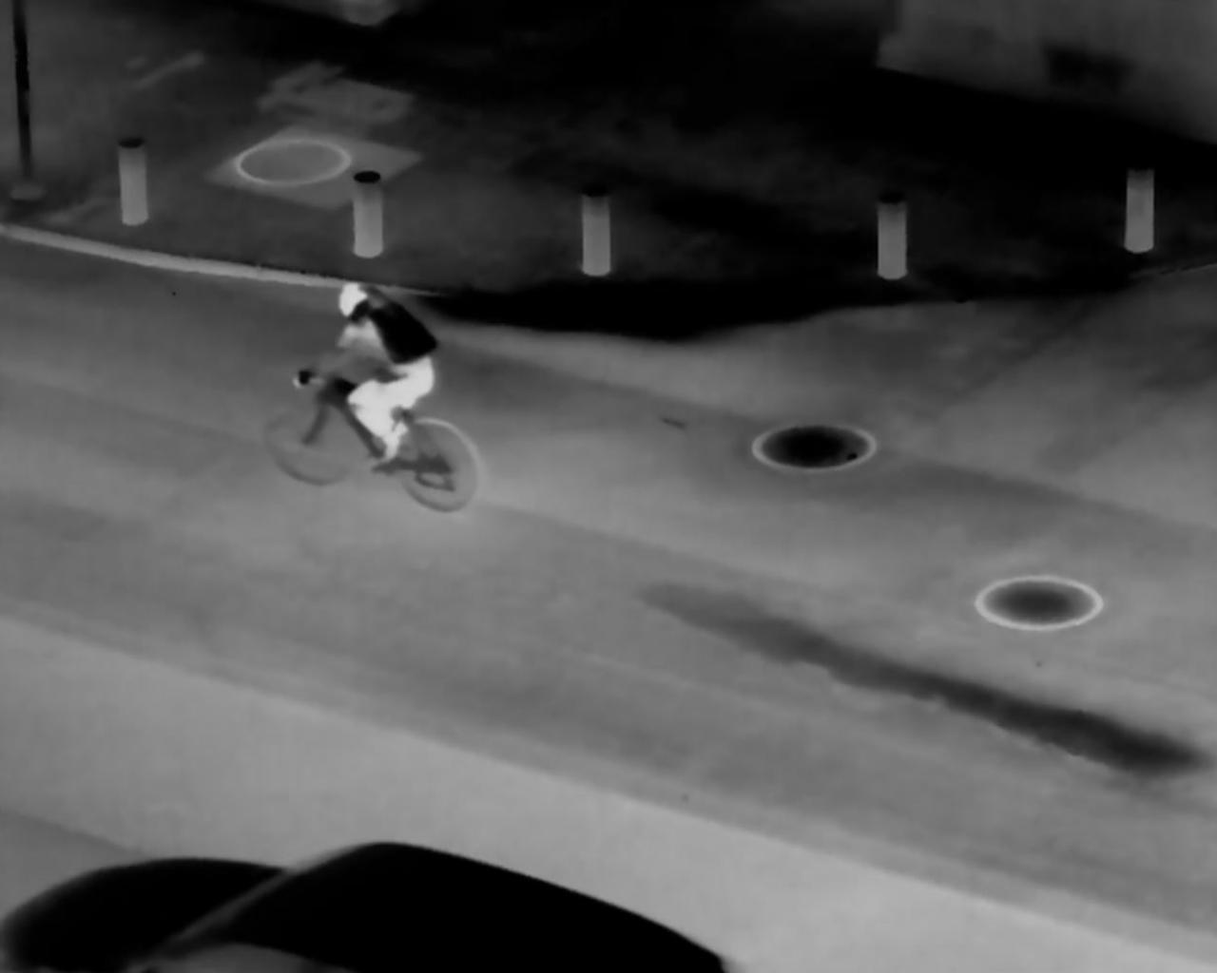person: (308, 257, 444, 483)
